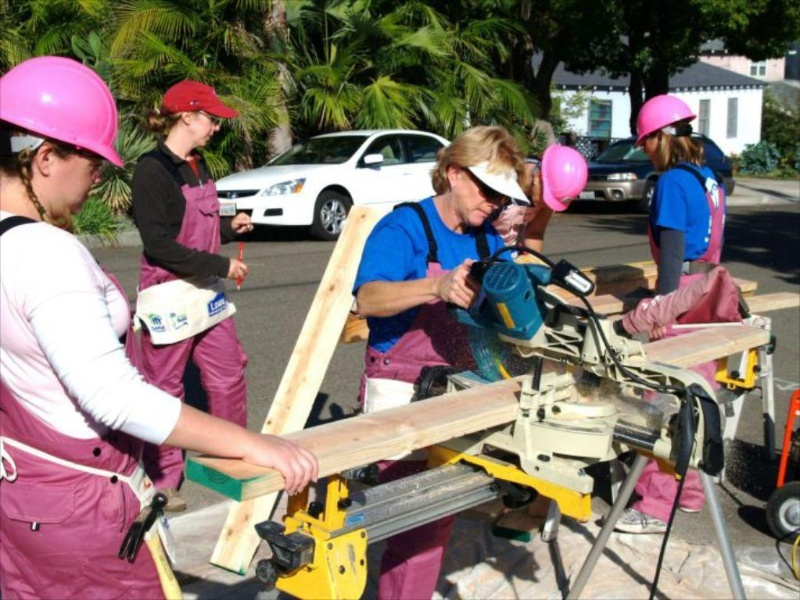baret: (2, 53, 126, 171), (539, 142, 590, 214), (633, 94, 697, 147)
